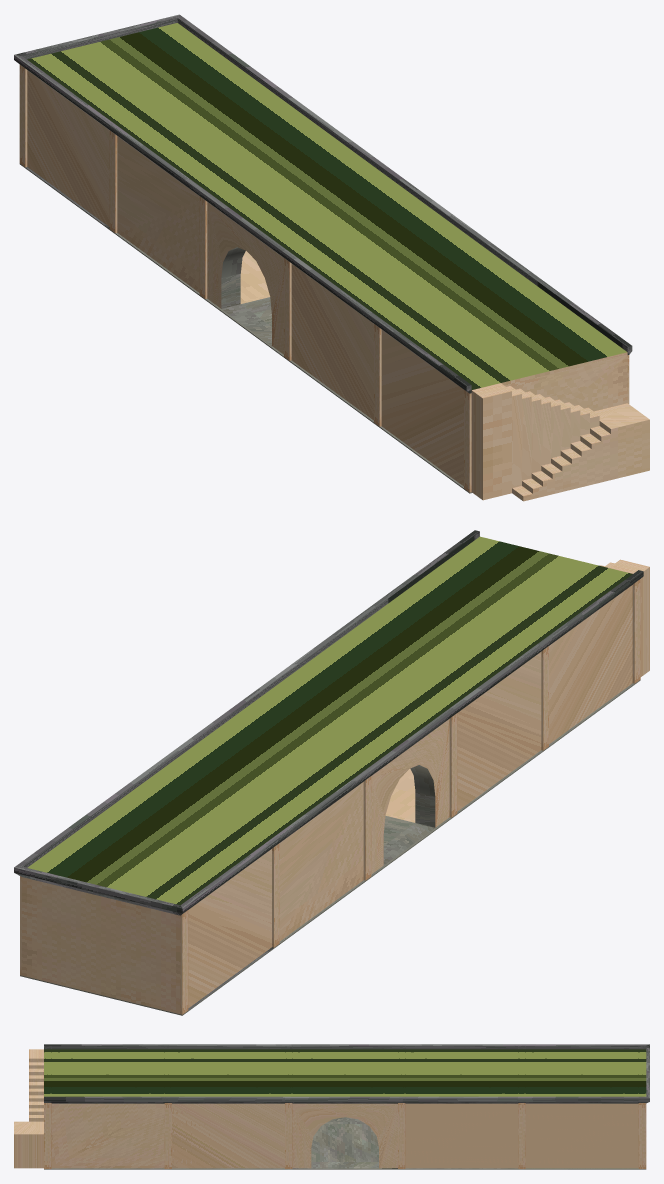
The model's file is WestWall.glb.
The picture shows the model from 3 angles, top to bottom: view 1: azimuth 30°, elevation 25°; view 2: azimuth 150°, elevation 25°; view 3: azimuth 270°, elevation 25°; orthographic projection. The views are drawn at different scales.
Visible parts, largest first — view 1: WallEdgeW2; view 2: WallEdgeW2; view 3: WallEdgeW2.
Part boxes in pixels (x1=…): WallEdgeW2: x1=14, y1=14, x2=649, y2=501; WallEdgeW2: x1=14, y1=530, x2=649, y2=1015; WallEdgeW2: x1=14, y1=1044, x2=649, y2=1169.
Size of the model in its own units: 17 by 10.6 by 84.5.
Materials: 5 (5 with a texture image).
